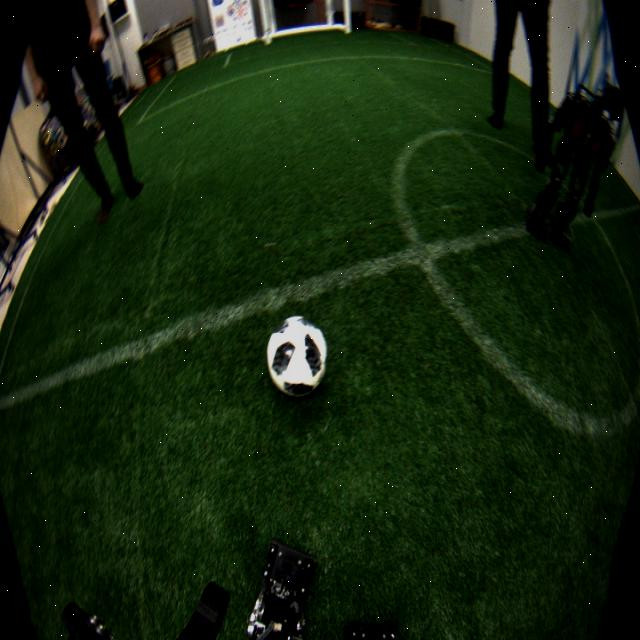ball: (267, 315, 329, 399)
goalpost: (260, 1, 272, 45), (343, 1, 353, 34)
